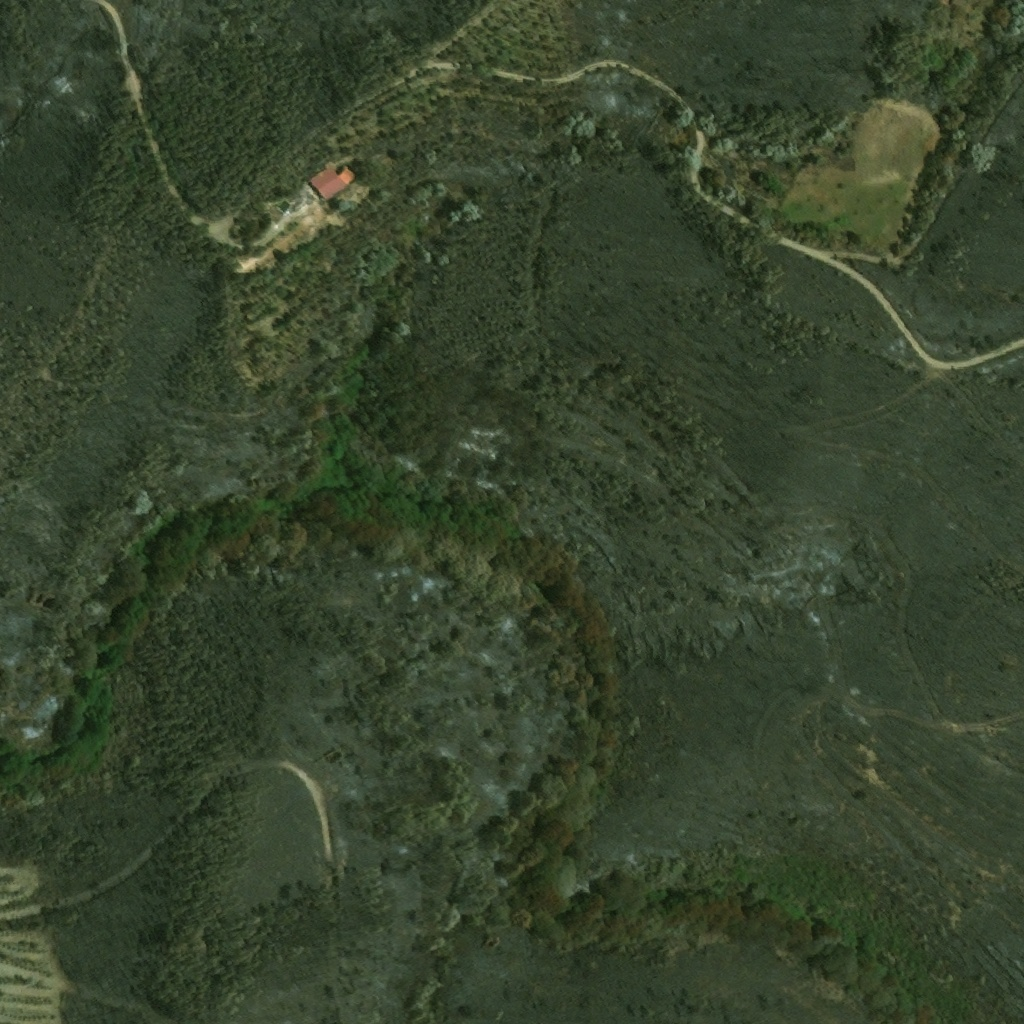0 no-damage: (306, 166, 355, 202)
